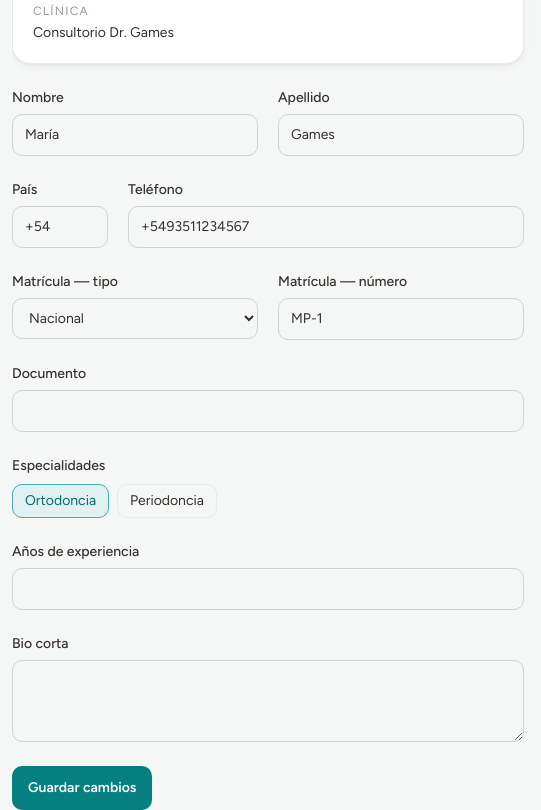
Test: PerfilForm › muestra el error que devuelve updateMeAction
The image size is (541, 810).
(page scrolled)
Click the button "Guardar cambios" at point(82, 788), box [12, 766, 152, 809]
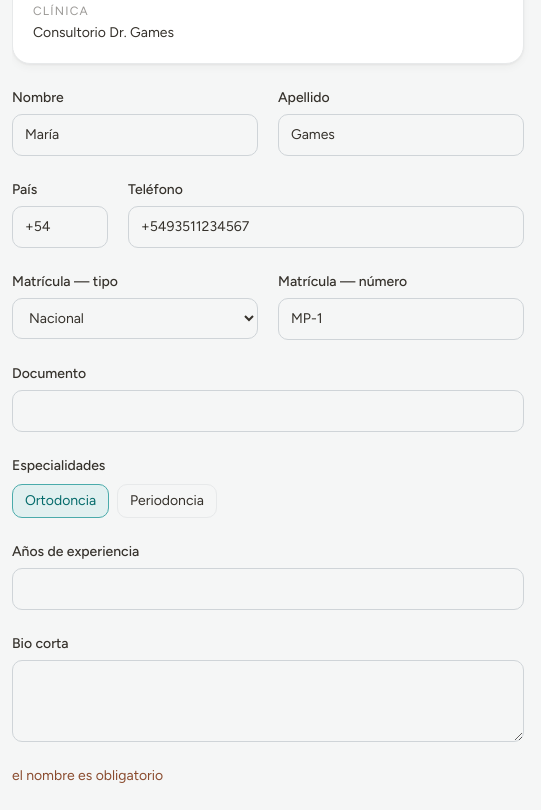
Result: the message reads "el nombre es obligatorio" at [12, 767, 163, 784]
